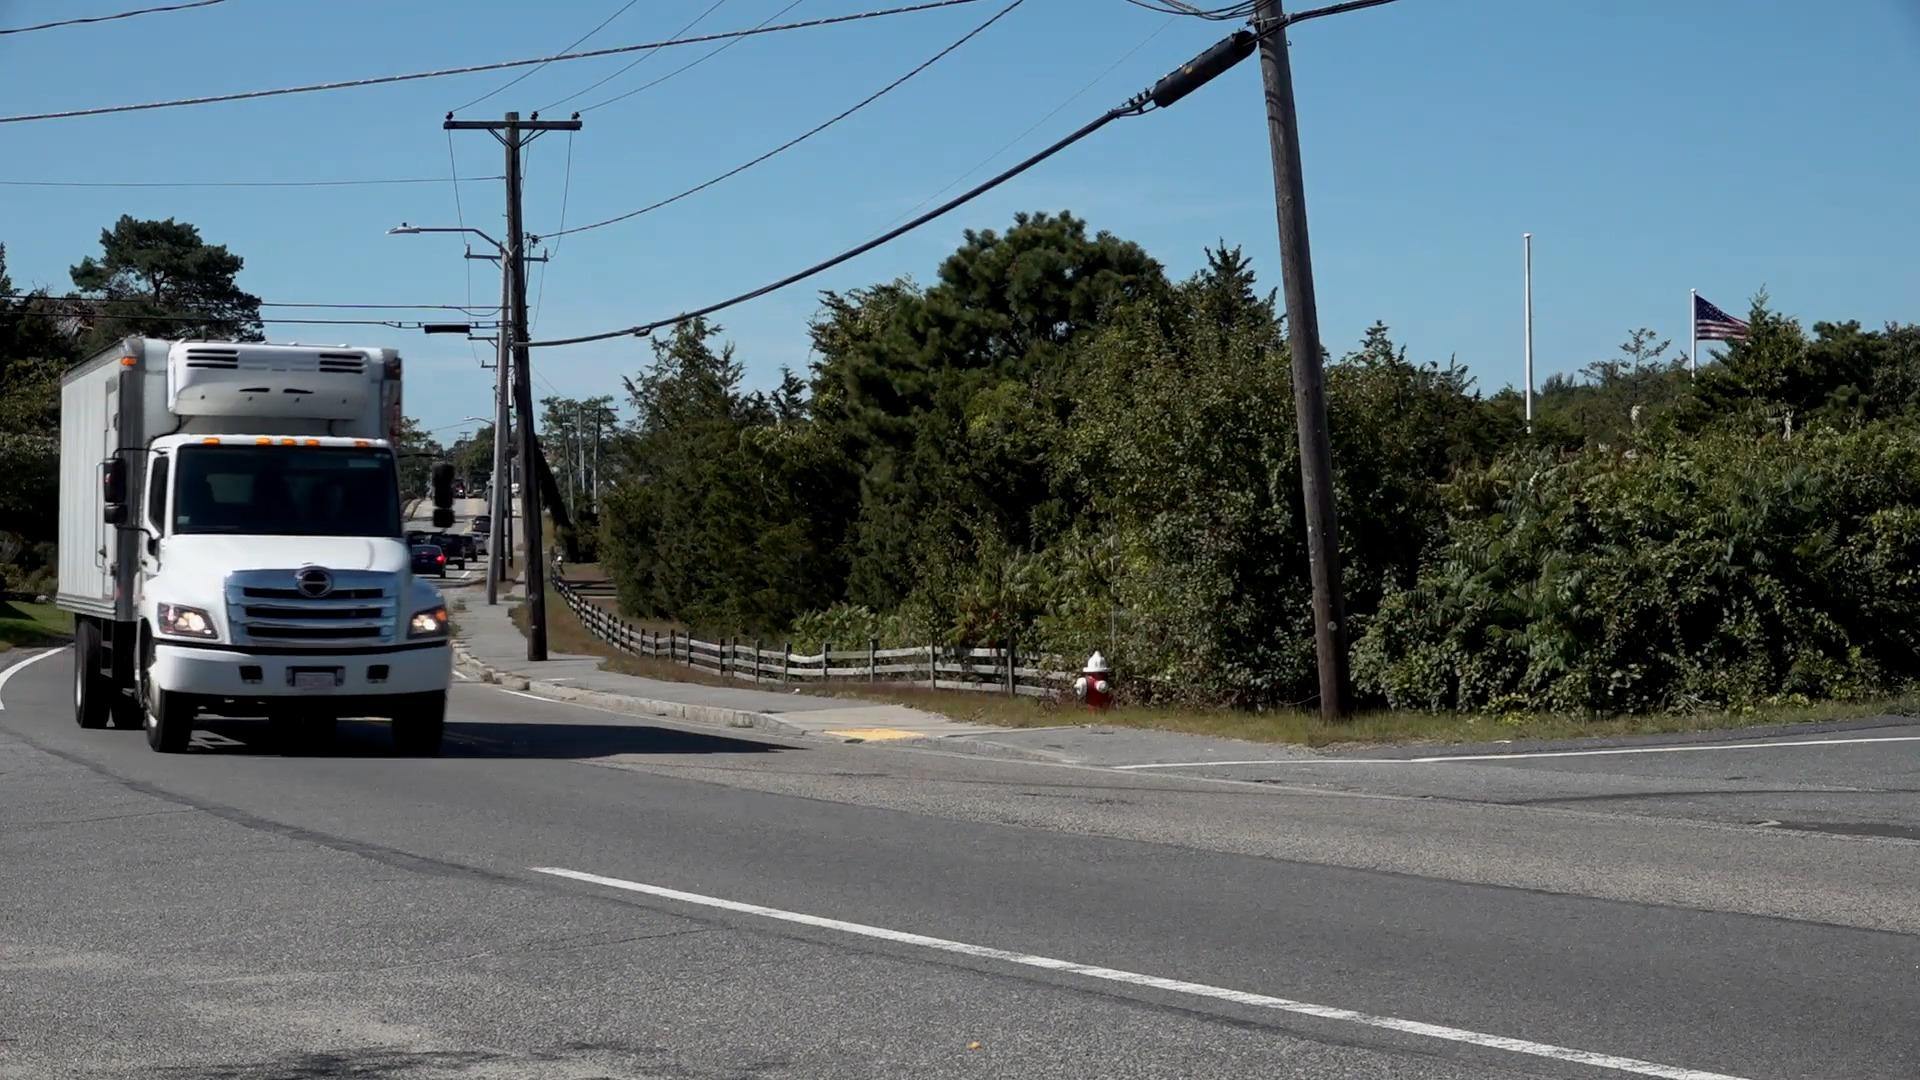truck: (57, 343, 456, 757)
